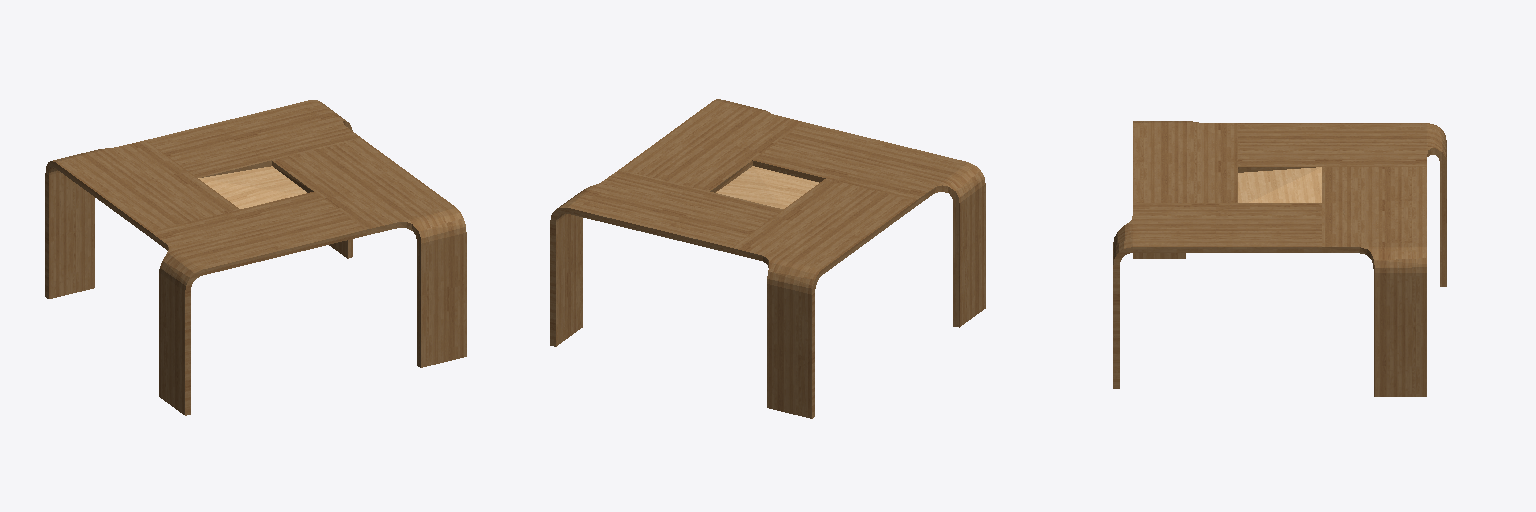
The picture shows the model from 3 angles: view 1: azimuth 30°, elevation 25°; view 2: azimuth 150°, elevation 25°; view 3: azimuth 270°, elevation 25°; orthographic projection.
Visible parts, largest first — view 1: Axial_Table:U60; view 2: Axial_Table:U60; view 3: Axial_Table:U60.
Part boxes in pixels (bbox=[...]): Axial_Table:U60: bbox=[45, 100, 466, 415]; Axial_Table:U60: bbox=[550, 99, 985, 418]; Axial_Table:U60: bbox=[1113, 121, 1446, 396].
Size of the model in its own units: 10.2 by 4.8 by 10.2.
1 materials, 1 textured.